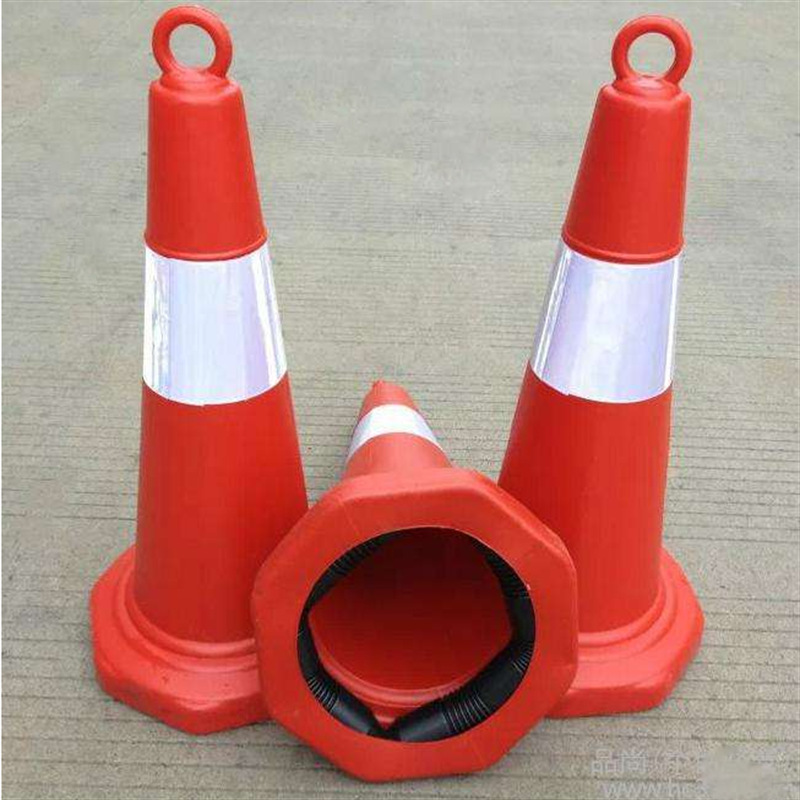traffic_cone: (463, 15, 738, 737), (65, 8, 329, 741), (267, 366, 597, 790)
